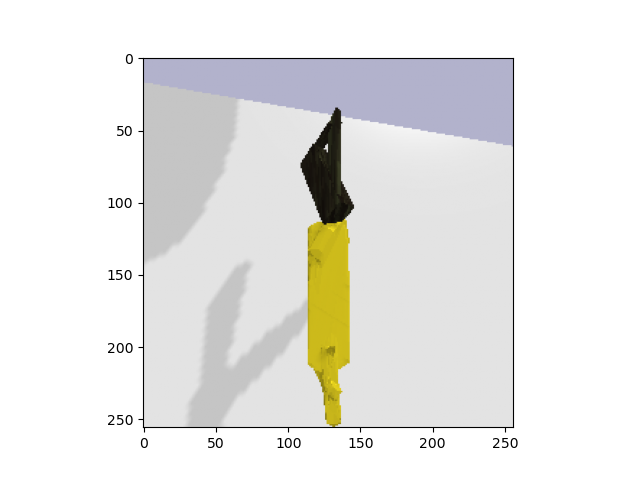v249b387_108: (301, 221, 366, 429)
v249b387_109: (296, 106, 370, 221)
